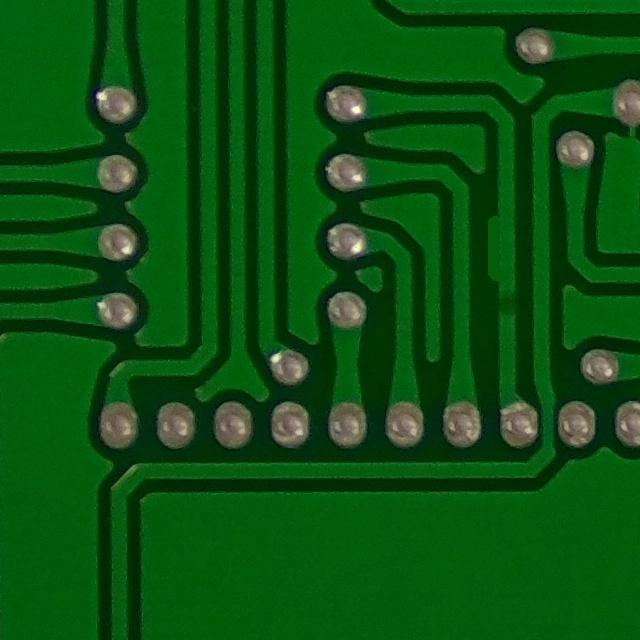spur: (478, 196, 514, 298)
